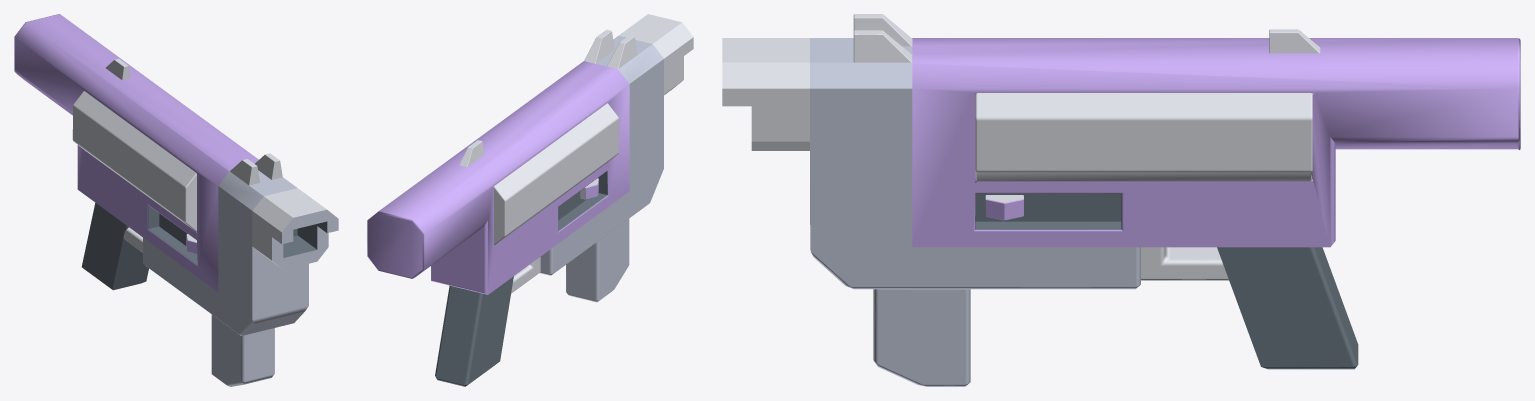
Rendered from blasterA.fbx.
3 views of the same model, side by side, from view 1: azimuth 30°, elevation 25°; view 2: azimuth 150°, elevation 25°; view 3: azimuth 270°, elevation 25° (orthographic). The views are drawn at different scales.
Visible parts, largest first — view 1: BlasterA; view 2: BlasterA; view 3: BlasterA.
Part boxes in pixels (x1,y1,x2,y2): BlasterA: (14,14,338,386); BlasterA: (367,14,693,386); BlasterA: (722,14,1520,386).
Size of the model in its own units: 14 by 40 by 82.
